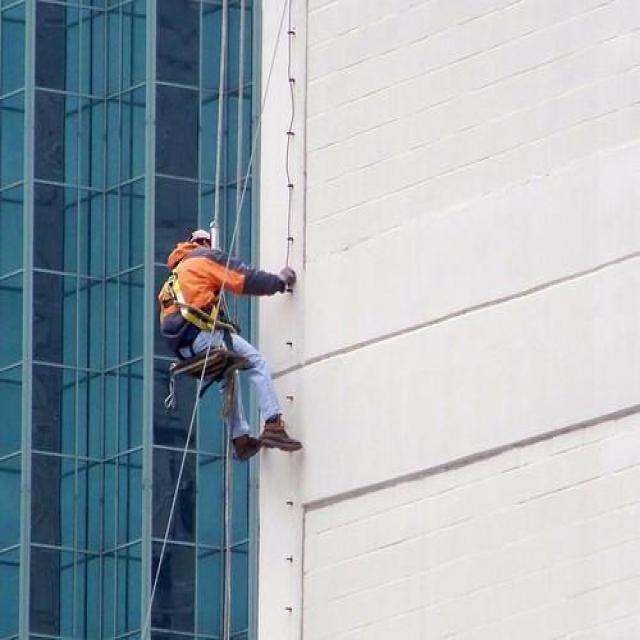Vest: (155, 245, 246, 338)
